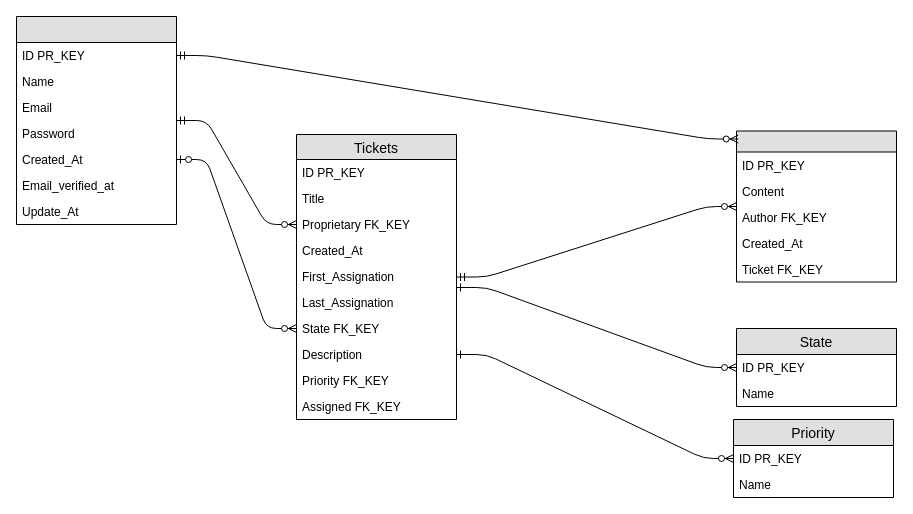
Some shapes in this 913 by 514 pixel diagram are drawn without their labels. The shapes that lost their labels are listed below. From the top down, each one's box as (x1, y1, x2, y2) in pixels, then its label:
(16, 16, 176, 224): User
(736, 130, 896, 282): Commentary
